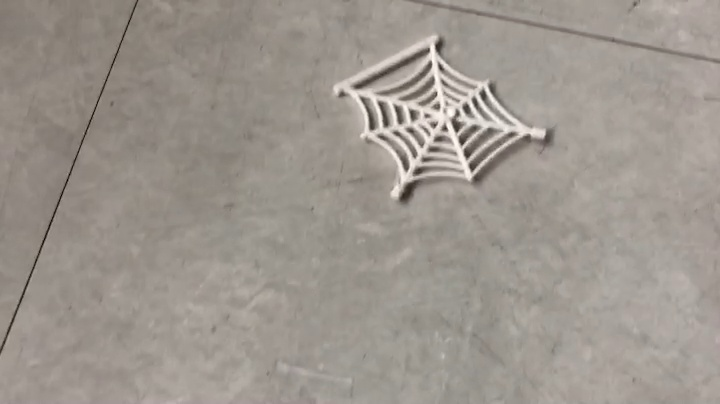web: (331, 31, 555, 203)
